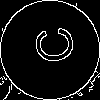C: (25, 25, 75, 66)
